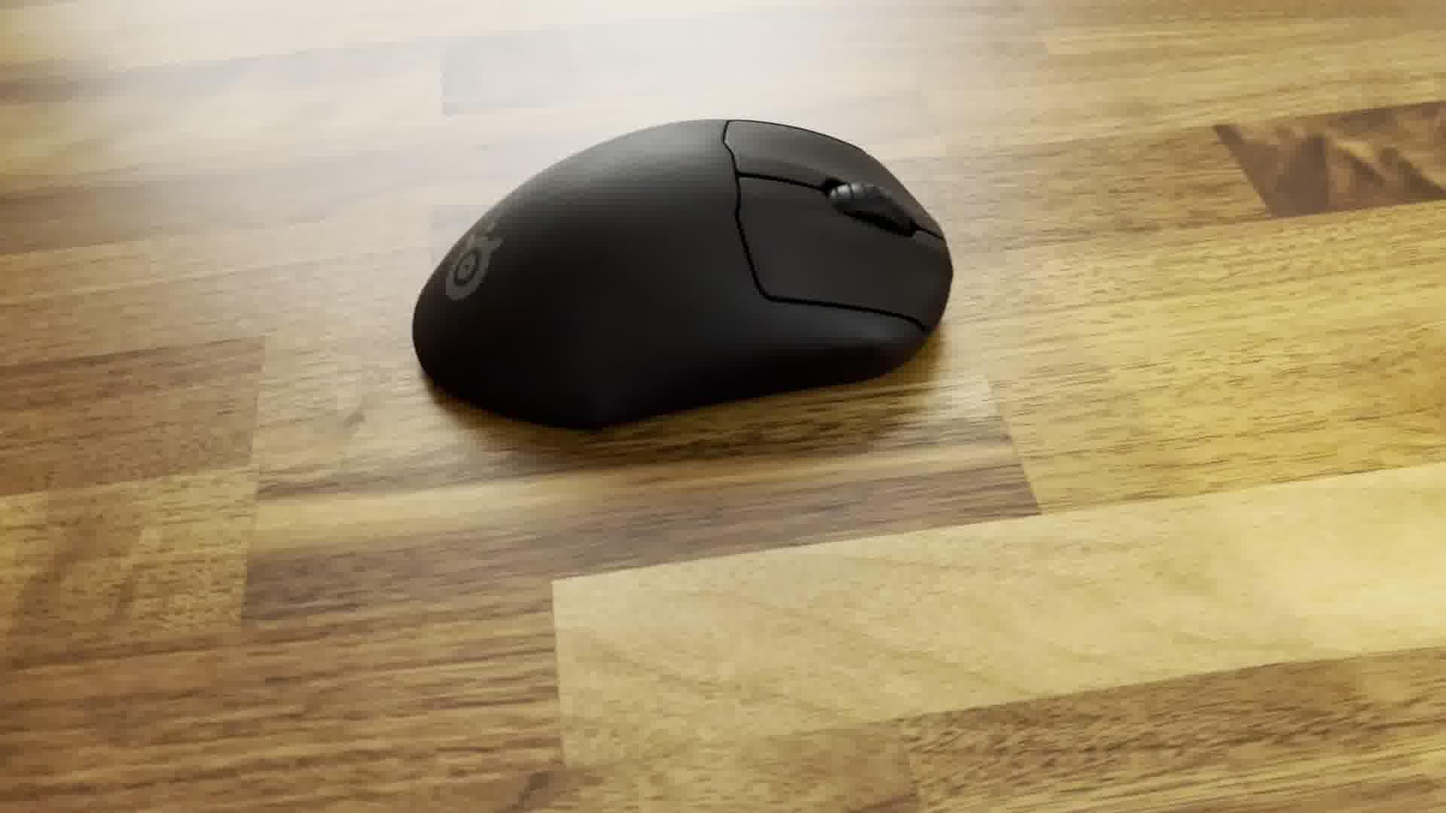mouse: (407, 111, 959, 437)
